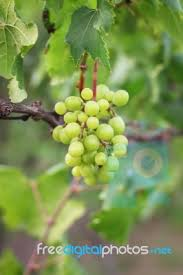grapes: (50, 93, 144, 182)
